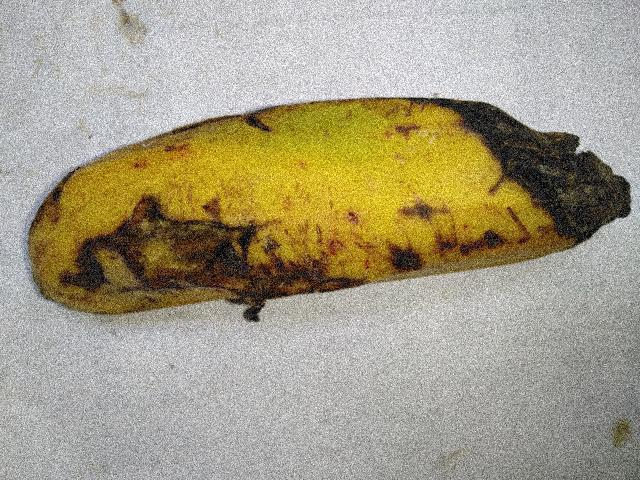ripe: (20, 91, 467, 331)
rotten: (67, 196, 344, 353), (421, 70, 639, 254)
